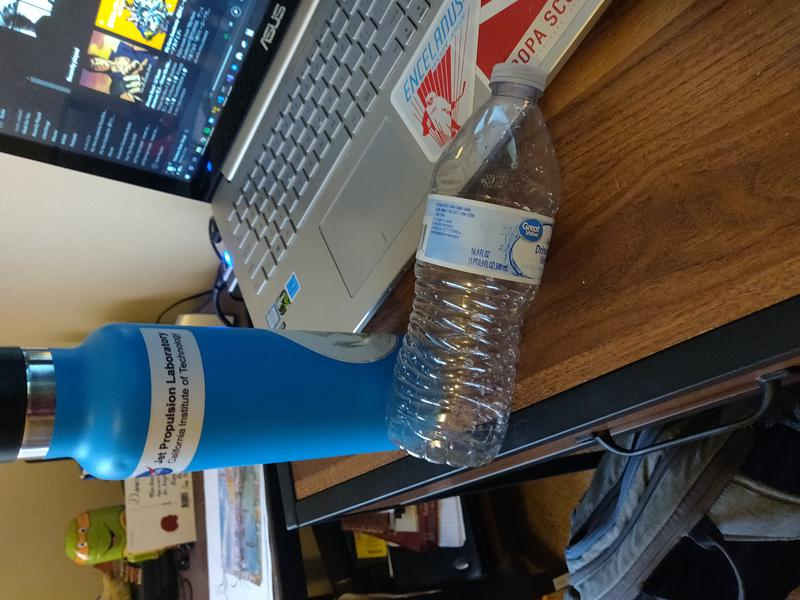bottle: (384, 61, 562, 473)
